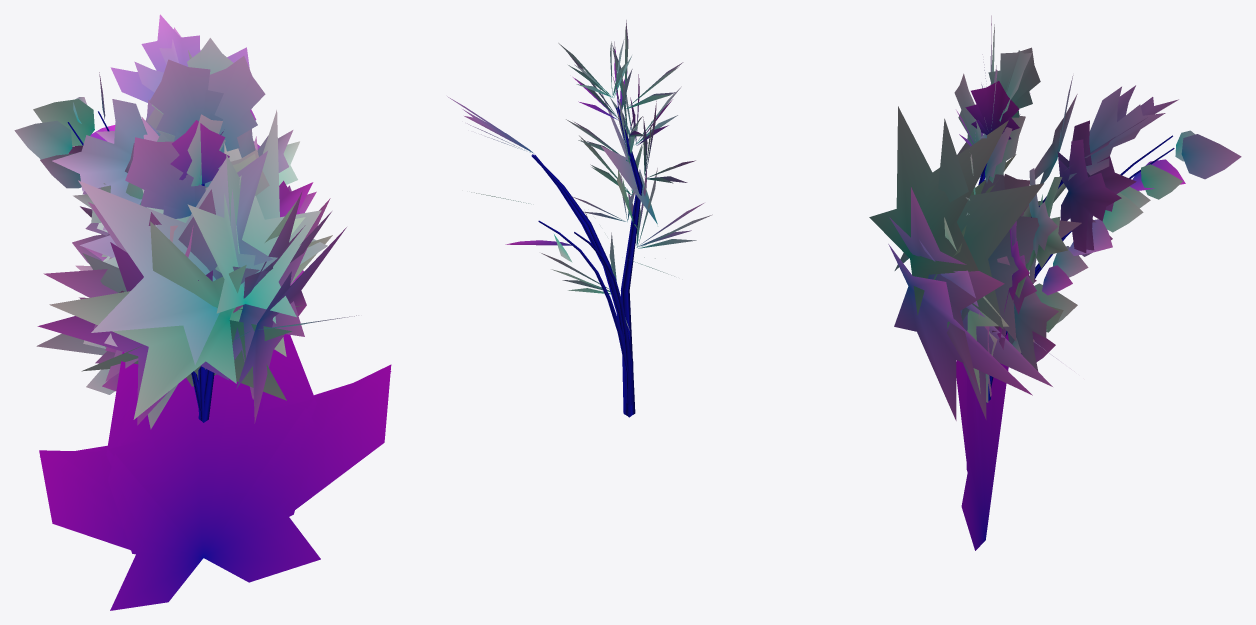
Rendered from fall-foliage.glb.
3 views of the same model, side by side, from view 1: azimuth 30°, elevation 25°; view 2: azimuth 150°, elevation 25°; view 3: azimuth 270°, elevation 25° (orthographic). The views are drawn at different scales.
Parts seen in each view (by area): view 1: leaf_maple, maple_clump_1, maple_clump_0, leaf_maple_far, oak_spray_0, leaf_oak, maple_spray_0, oak_spray_1, leaf_birch, maple_spray_1, birch_strand_0, birch_strand_1; view 2: oak_spray_0, oak_spray_1, maple_spray_1, birch_strand_0, maple_clump_0, maple_spray_0, birch_strand_1; view 3: maple_clump_1, maple_spray_0, maple_clump_0, birch_strand_1, maple_spray_1, oak_spray_1, leaf_maple, birch_strand_0, oak_spray_0, leaf_maple_far, leaf_oak, leaf_birch.
Part boxes in pixels (x1,y1,x2,y2): leaf_maple: (39, 363, 391, 610); maple_clump_1: (36, 110, 346, 429); maple_clump_0: (37, 117, 358, 425); leaf_maple_far: (40, 371, 391, 557); oak_spray_0: (149, 38, 265, 422); leaf_oak: (106, 334, 316, 557); maple_spray_0: (52, 27, 316, 419); oak_spray_1: (125, 50, 269, 422); leaf_birch: (108, 351, 317, 556); maple_spray_1: (73, 14, 313, 418); birch_strand_0: (14, 97, 201, 410); birch_strand_1: (33, 72, 200, 407); oak_spray_0: (541, 20, 703, 416); oak_spray_1: (551, 27, 712, 416); maple_spray_1: (447, 96, 674, 417); birch_strand_0: (505, 232, 632, 406); maple_clump_0: (600, 89, 657, 223); maple_spray_0: (467, 123, 629, 417); birch_strand_1: (538, 220, 629, 405); maple_clump_1: (869, 106, 1074, 420); maple_spray_0: (984, 75, 1165, 396); maple_clump_0: (889, 148, 1081, 419); birch_strand_1: (988, 134, 1241, 389); maple_spray_1: (985, 85, 1178, 402); oak_spray_1: (956, 24, 1040, 402); leaf_maple: (956, 332, 1008, 550); birch_strand_0: (1021, 130, 1194, 362); oak_spray_0: (954, 15, 1031, 400); leaf_maple_far: (964, 368, 993, 539); leaf_oak: (969, 380, 985, 538); leaf_birch: (966, 375, 985, 536).
Size of the model in its own units: 1.2 by 1.75 by 1.09.
